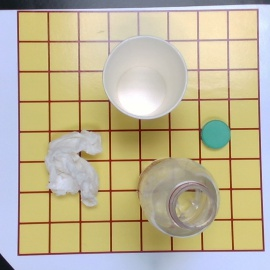bottle: (133, 152, 221, 237)
cup: (104, 37, 188, 120)
green: (200, 119, 230, 147)
